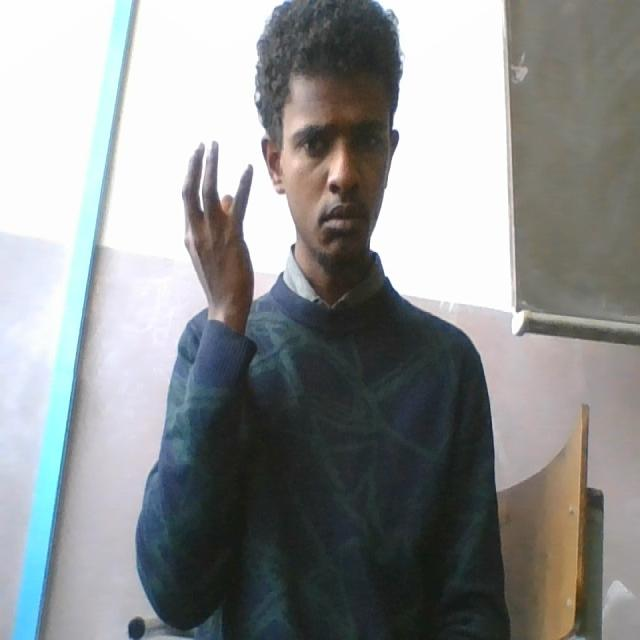menaded: (173, 128, 318, 316)
